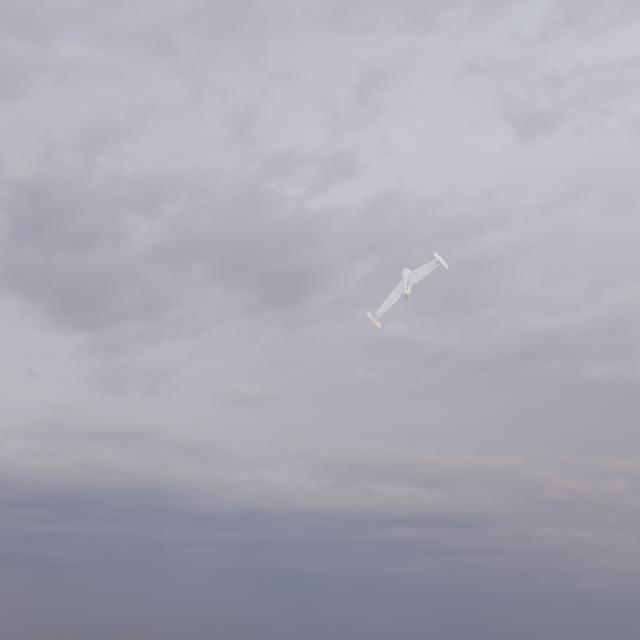Airaplan: (367, 252, 448, 328)
